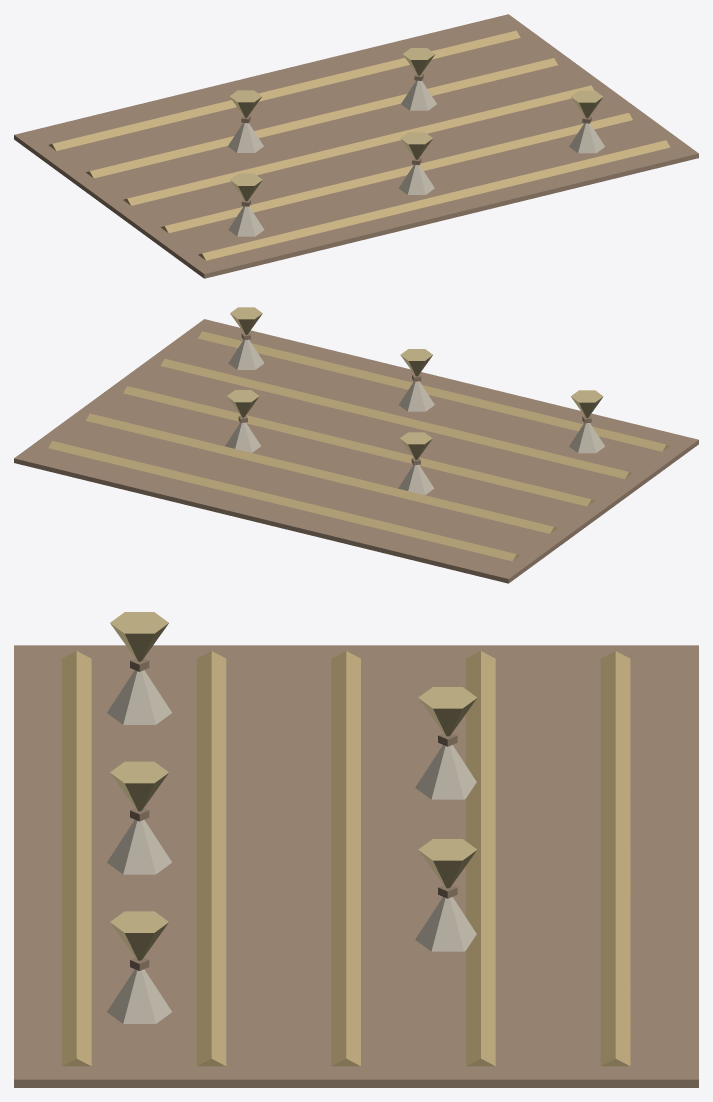
Rendered from field-flax-cut.glb.
3 views of the same model, one above another, from view 1: azimuth 30°, elevation 25°; view 2: azimuth 150°, elevation 25°; view 3: azimuth 270°, elevation 25° (orthographic). The views are drawn at different scales.
Parts seen in each view (by area): view 1: field_flax_cut; view 2: field_flax_cut; view 3: field_flax_cut.
Part boxes in pixels (x1=…): field_flax_cut: x1=14, y1=14, x2=698, y2=278; field_flax_cut: x1=14, y1=307, x2=698, y2=583; field_flax_cut: x1=14, y1=612, x2=698, y2=1087.
Bounding box in the file's own units: 3 × 0.3167 × 2.
